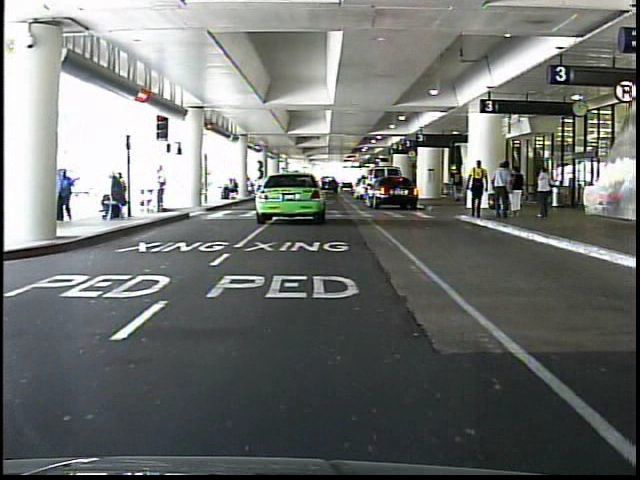person: (534, 162, 562, 227), (58, 165, 84, 226), (465, 158, 488, 225), (489, 161, 511, 221), (150, 164, 174, 218), (509, 162, 525, 218), (450, 166, 465, 204)
